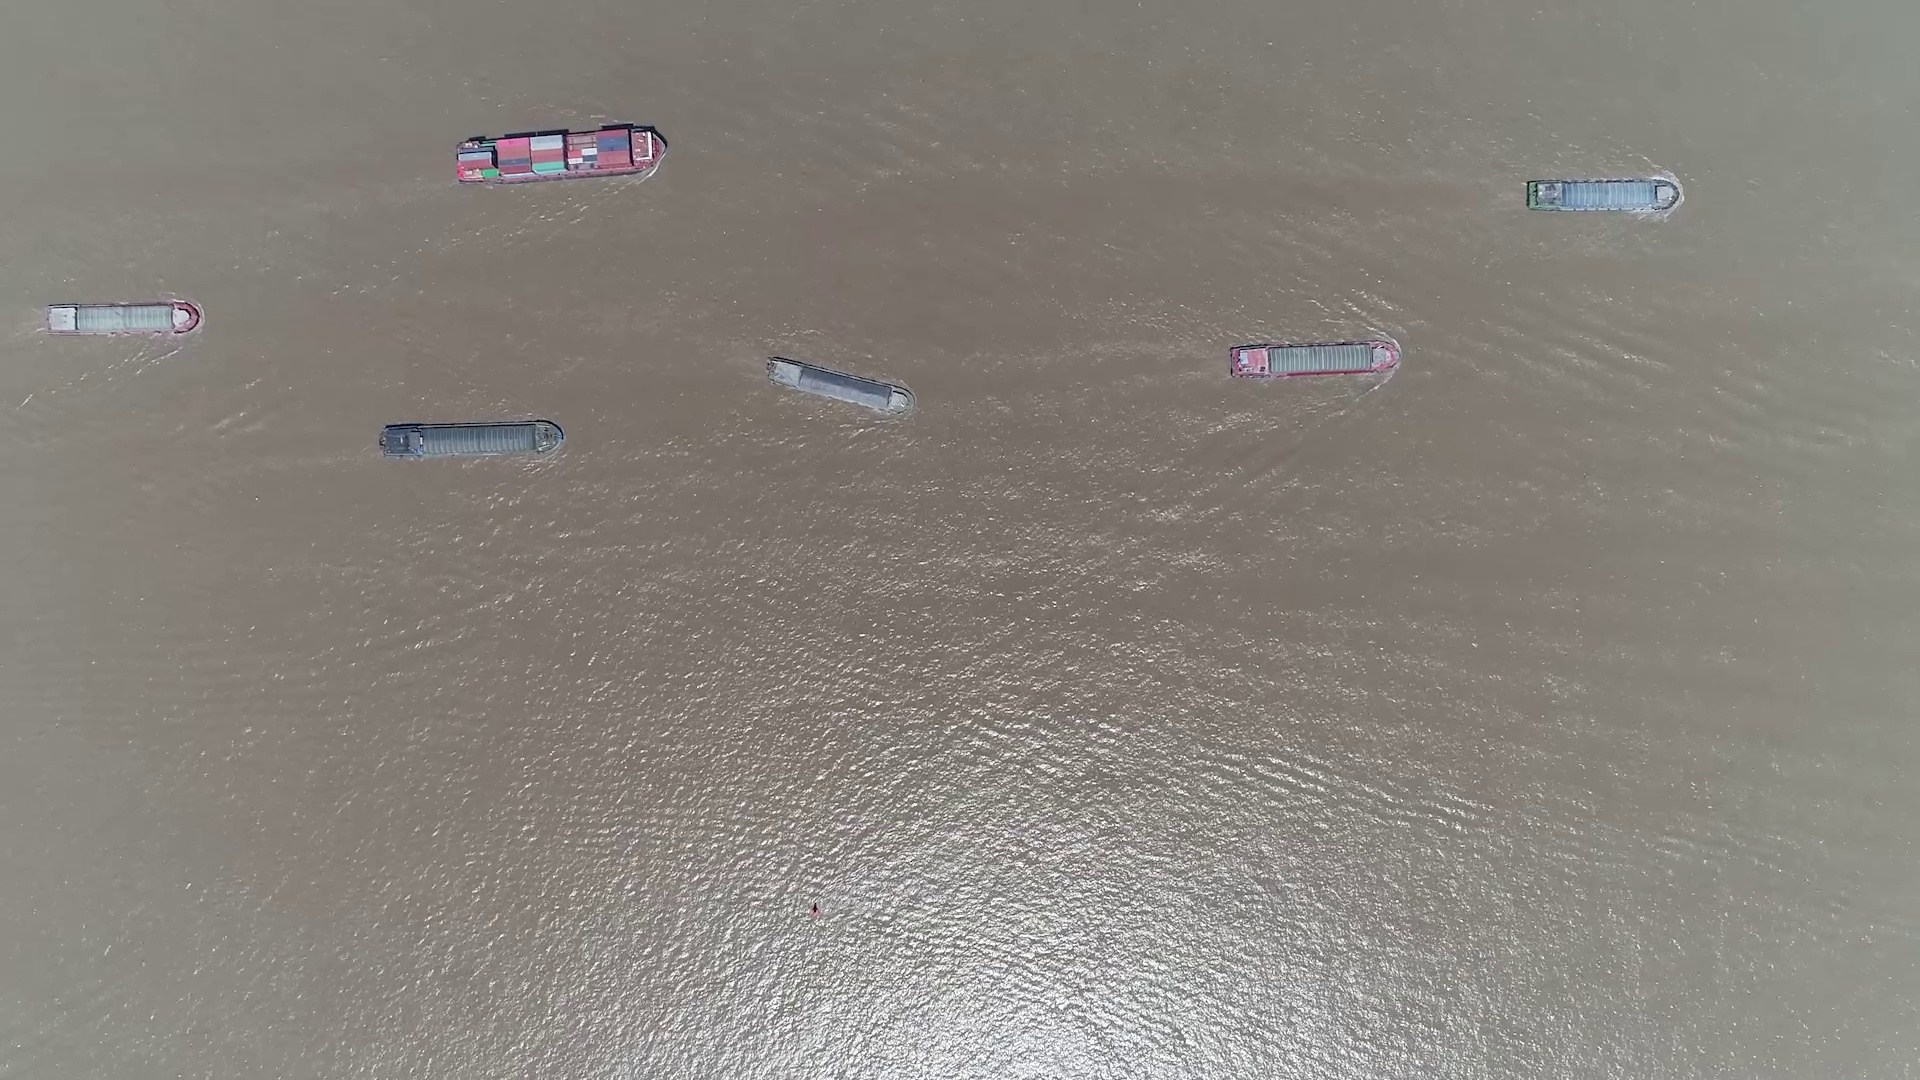ship: (454, 127, 666, 183), (766, 356, 915, 413), (1228, 338, 1399, 378), (378, 421, 560, 458), (45, 303, 199, 335), (1528, 179, 1675, 212)
